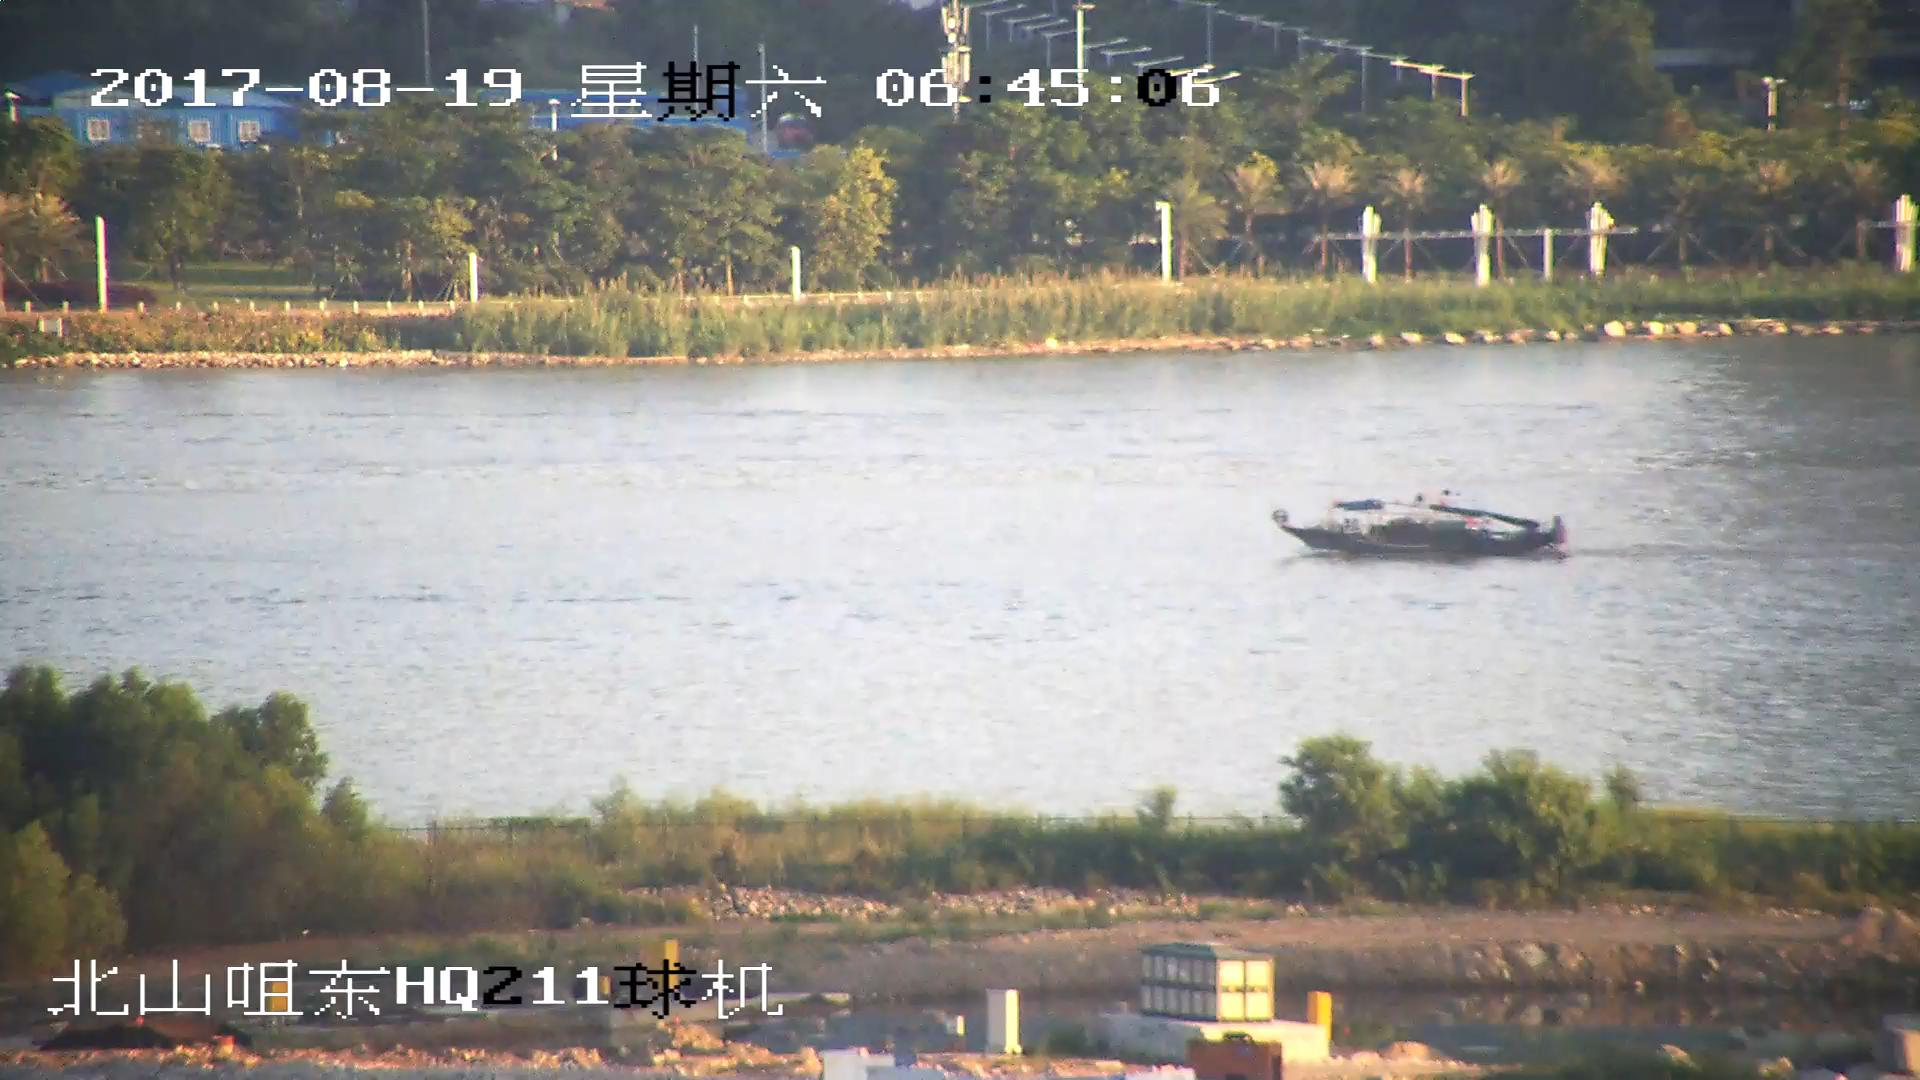fishing boat: (1273, 488, 1564, 559)
